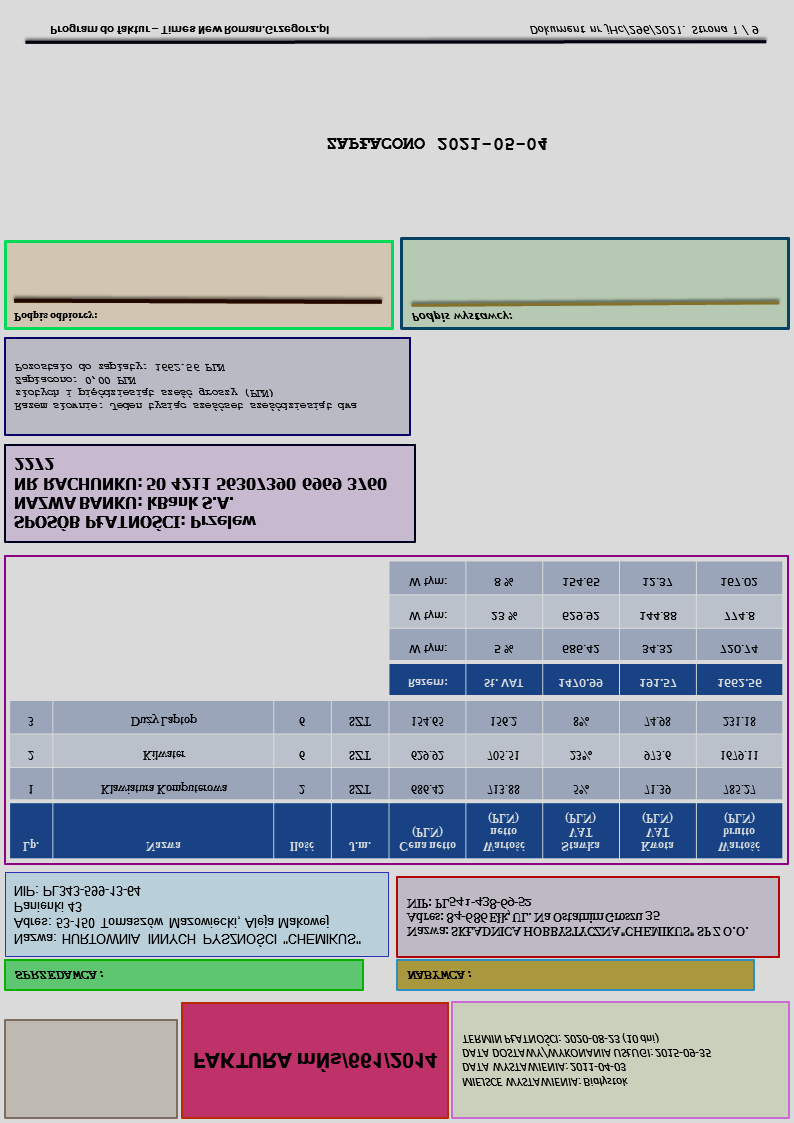Table: (9, 699, 783, 860), (387, 560, 784, 697)
TextBox: (11, 454, 388, 533), (11, 882, 364, 949), (12, 360, 360, 415), (404, 894, 751, 941), (460, 1032, 713, 1090), (192, 1050, 439, 1074), (48, 21, 331, 37), (325, 134, 550, 154), (527, 22, 760, 38), (409, 309, 514, 324), (12, 309, 97, 325), (13, 968, 105, 982), (404, 968, 473, 982)
